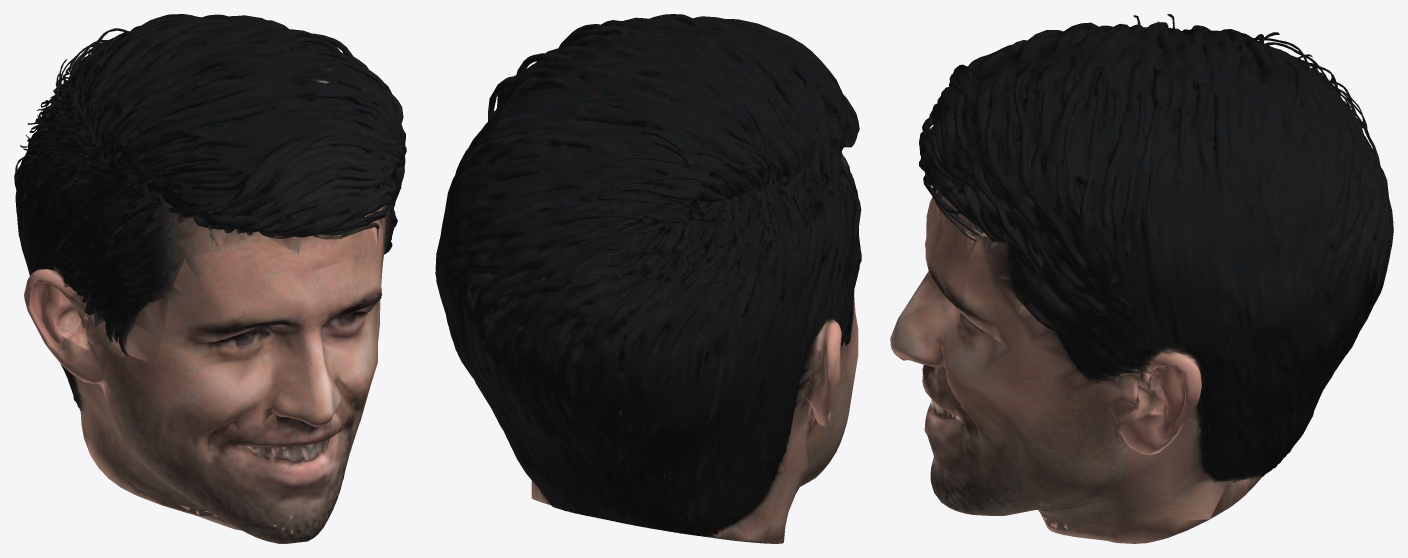
Rendered from head_jason.glb.
3 views of the same model, side by side, from view 1: azimuth 30°, elevation 25°; view 2: azimuth 150°, elevation 25°; view 3: azimuth 270°, elevation 25° (orthographic). The views are drawn at different scales.
Parts seen in each view (by area): view 1: Mesh_0; view 2: Mesh_0; view 3: Mesh_0.
Boxes of the visible parts, x1,y1,x2,y2 form: Mesh_0: (14,14,406,543); Mesh_0: (435,14,861,543); Mesh_0: (890,14,1393,543).
Bounding box in the file's own units: 0.6918 × 0.8575 × 0.796.
1 material, 1 textured.
